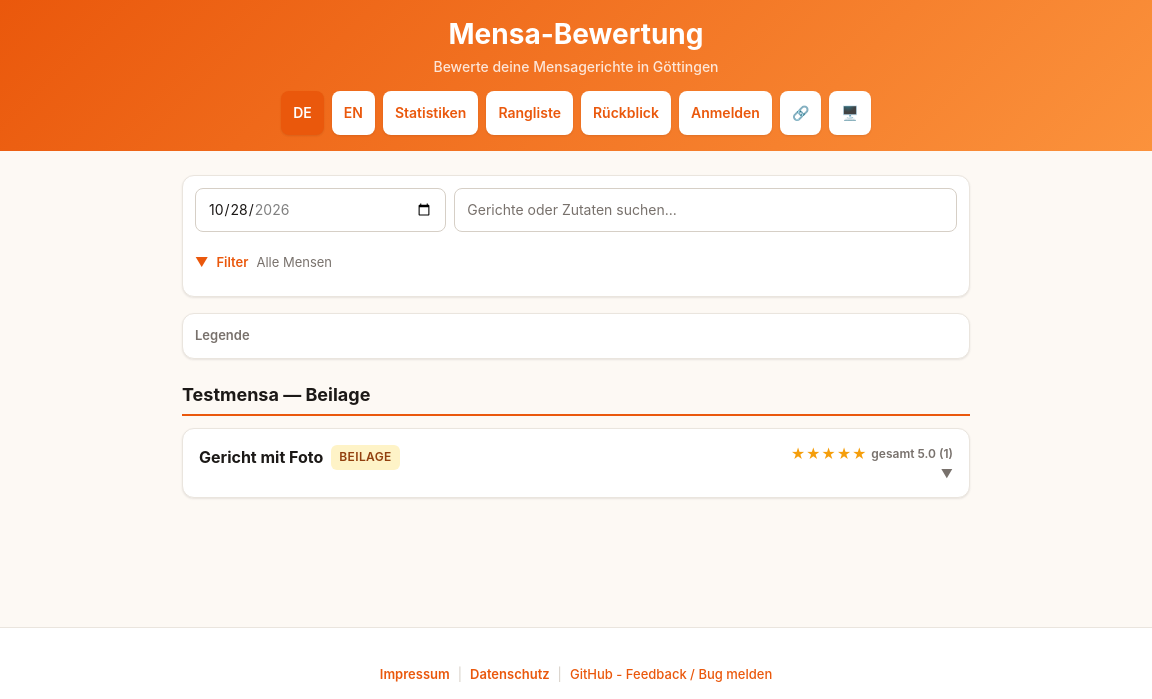
Test: a review with an uploaded photo renders the photo thumbnail
Click the text "Gericht mit Foto".
click(261, 458)  # box [199,447,323,468]
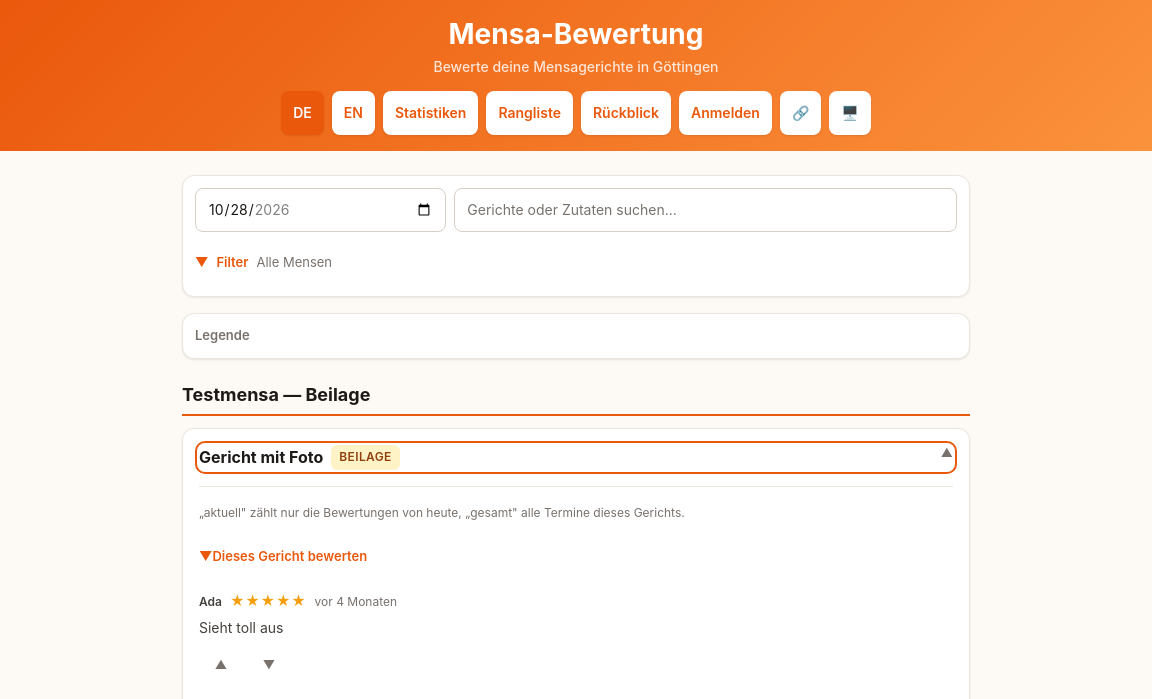
Now the text "Sieht toll aus" is shown, box [199,618,283,636]
